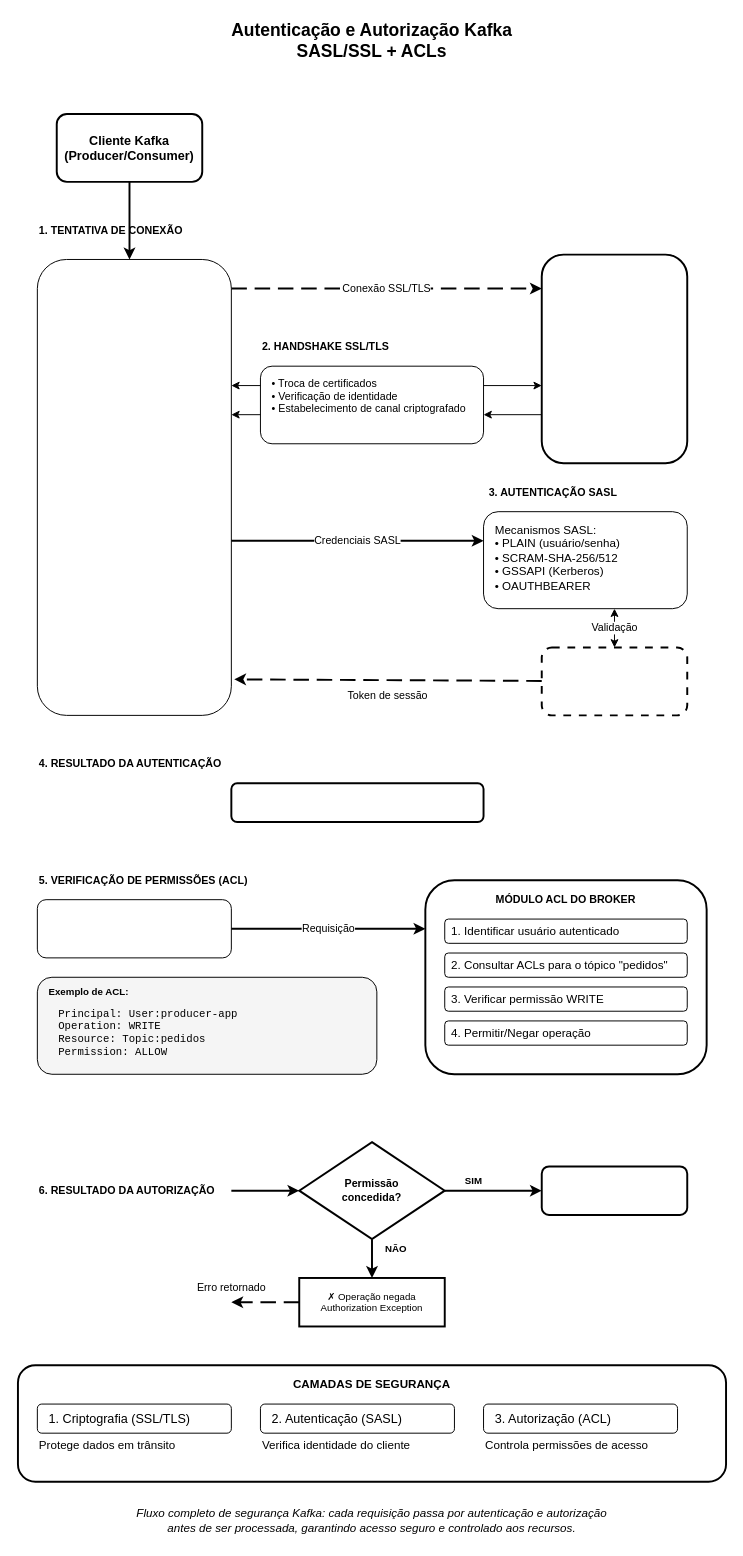
The diagram is 743 pixels wide and 1556 high, and some of its shapes have lost their labels. The centre of each missing label's shape, as x and y in pixels:
Cliente inicia conexão com Broker na porta 9093 (SSL/TLS): (133,487)
Cliente tenta operação: PRODUZIR em tópico "pedidos": (133,928)
Kafka Broker: (614,358)
Servidor de Autenticação (LDAP/Kerberos): (614,681)
✓ Autenticação bem-sucedida: (357,802)
✓ Operação permitida Mensagem publicada: (614,1190)
